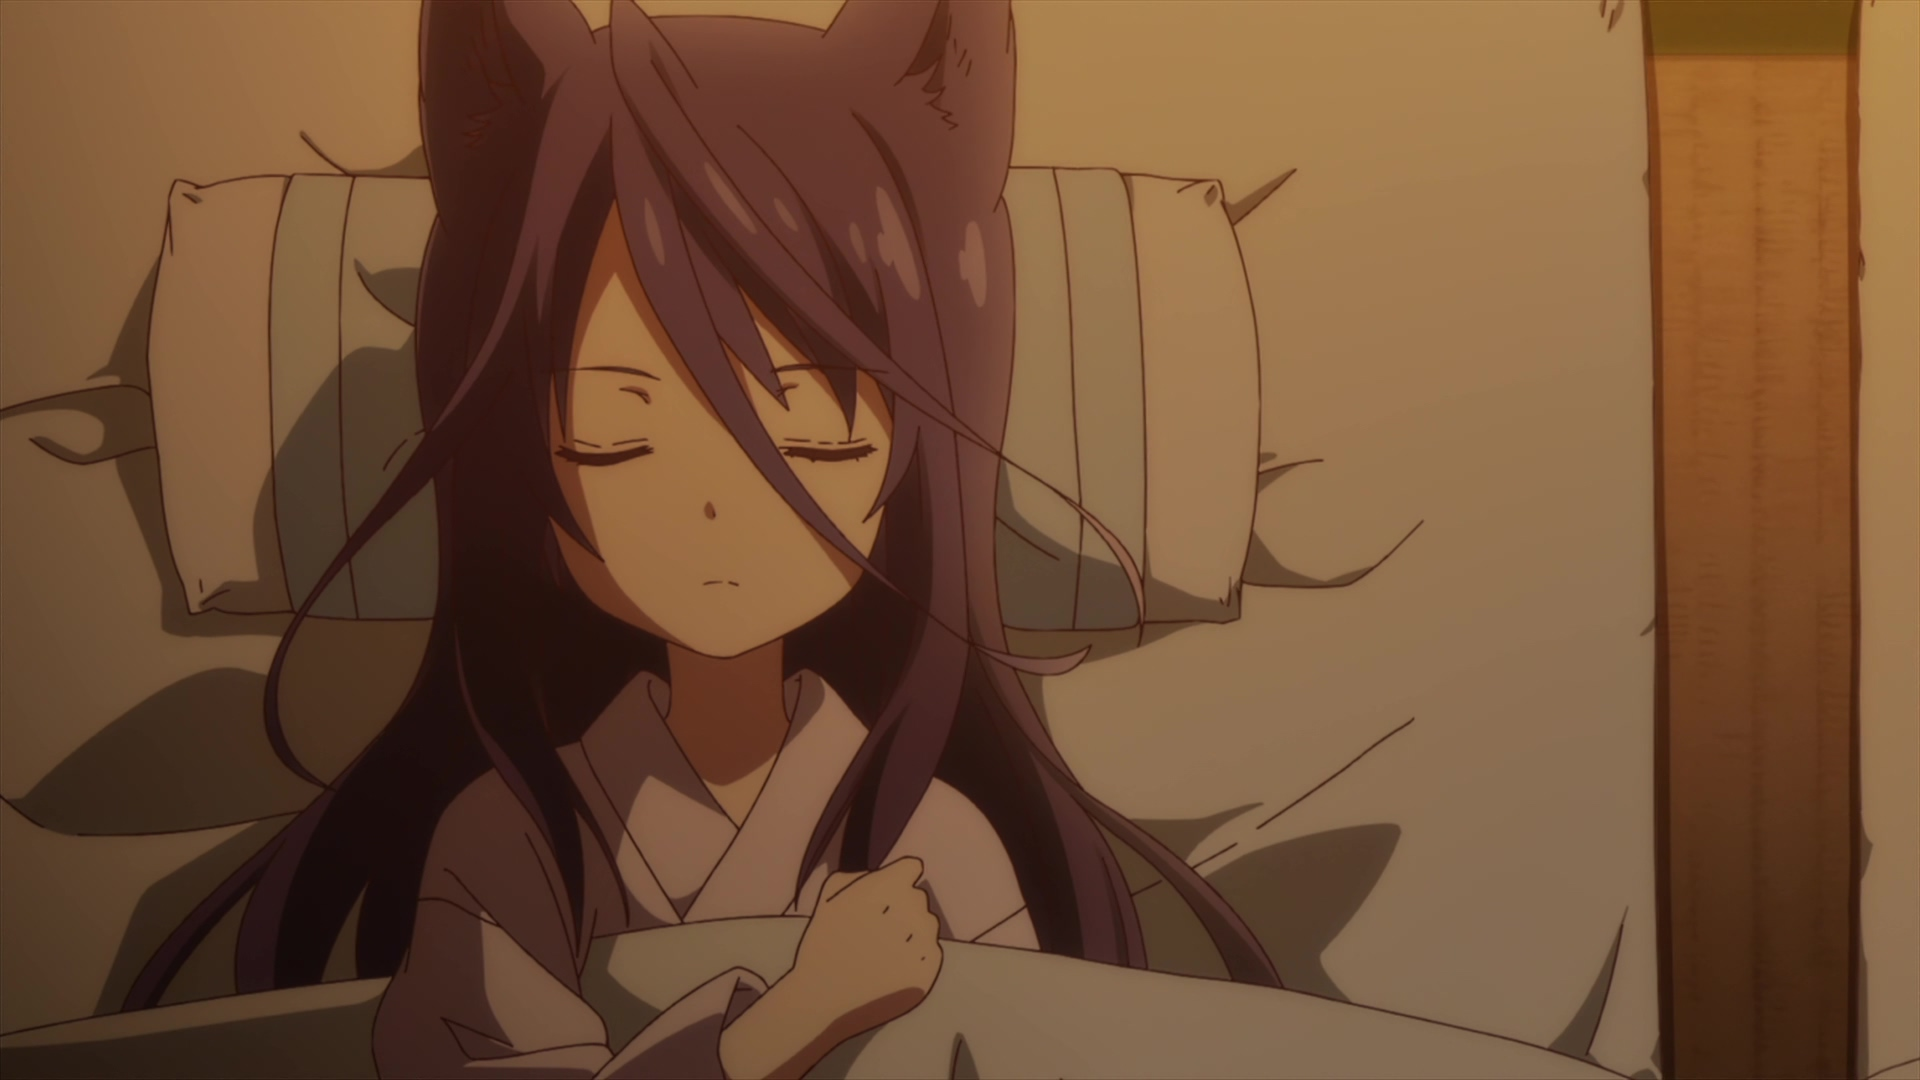皋: (125, 1, 1284, 1080)
